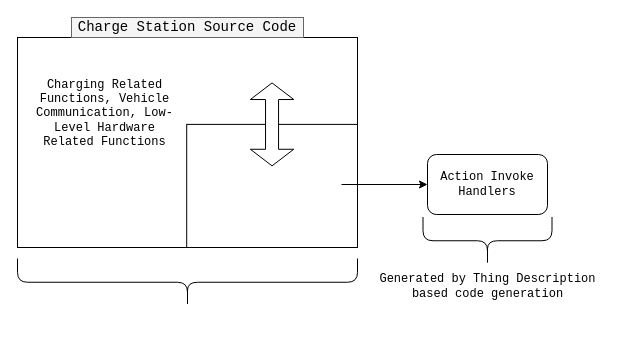
Image size: 621x363. Some labels were removed from this diagram. Here are the shapes that lost their labels. From the top down, the centre of each, then its label:
pixel 272 185: Websockets Implementation
pixel 187 283: Independent from TD, Written before Code Generation
